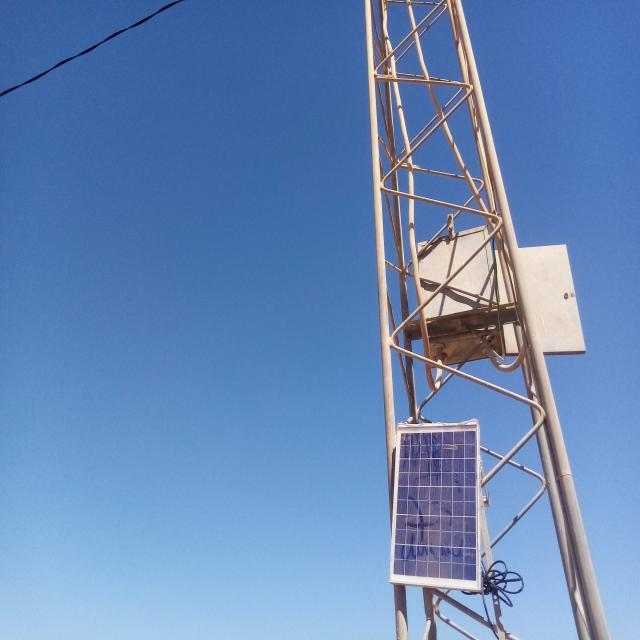faulty: (390, 424, 480, 590)
